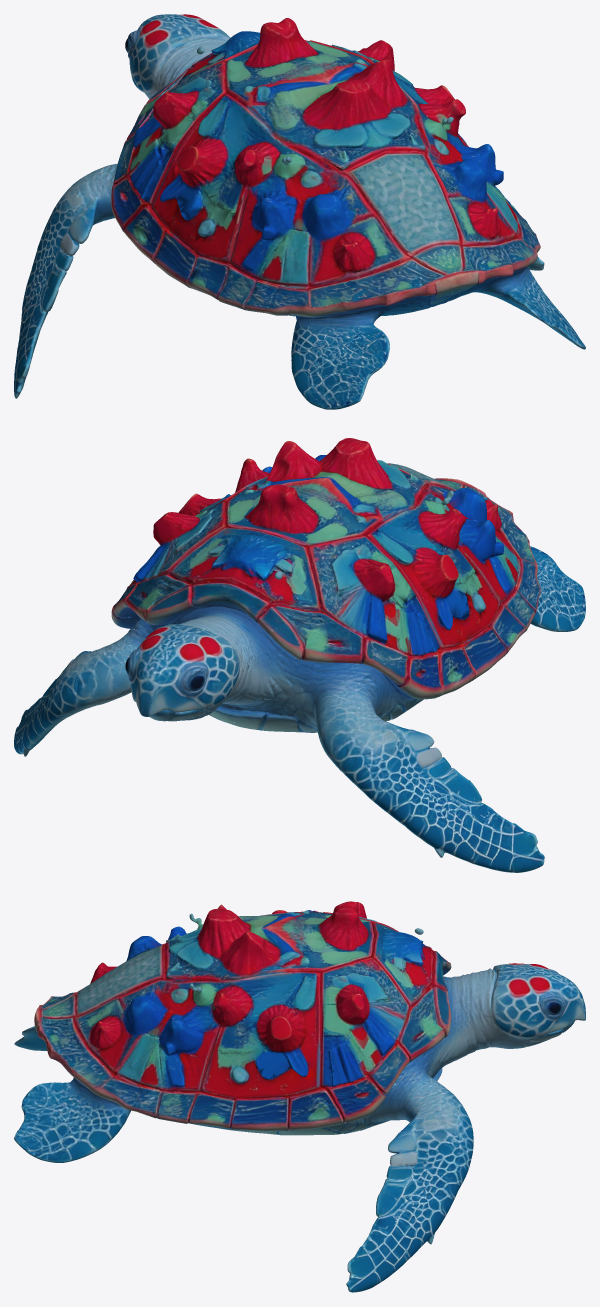
The model's file is bwugui.glb.
3 views of the same model, one above another, from view 1: azimuth 30°, elevation 25°; view 2: azimuth 150°, elevation 25°; view 3: azimuth 270°, elevation 25° (orthographic). The views are drawn at different scales.
Parts seen in each view (by area): view 1: tripo_node_352847fb-9ab8-4ec5-b6cc-cd56897c663b; view 2: tripo_node_352847fb-9ab8-4ec5-b6cc-cd56897c663b; view 3: tripo_node_352847fb-9ab8-4ec5-b6cc-cd56897c663b.
Part boxes in pixels (x1,y1,x2,y2): tripo_node_352847fb-9ab8-4ec5-b6cc-cd56897c663b: (14, 14, 585, 409); tripo_node_352847fb-9ab8-4ec5-b6cc-cd56897c663b: (14, 438, 585, 872); tripo_node_352847fb-9ab8-4ec5-b6cc-cd56897c663b: (14, 901, 585, 1292).
Bounding box in the file's own units: 0.9311 × 0.5316 × 0.9961.
1 material, 1 textured.
